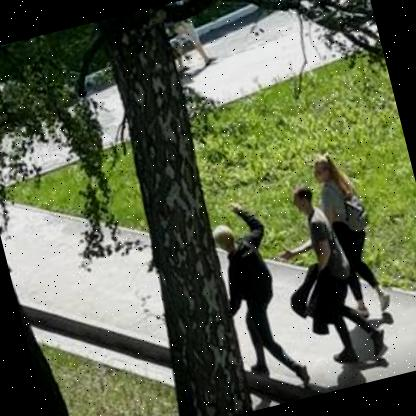person: (260, 173, 382, 382), (202, 187, 314, 395), (304, 140, 402, 322)
tree: (74, 3, 271, 416)
